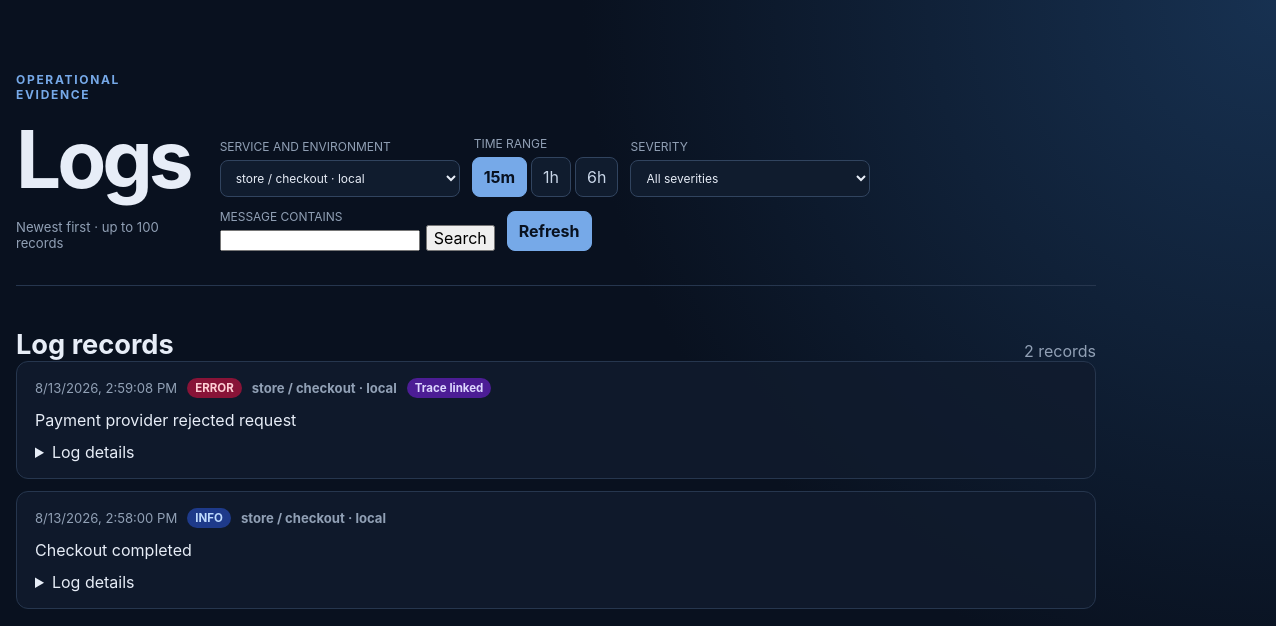
Test: Logs › removes prior-service records while the new exact identity loads
The image size is (1276, 626).
Check: the text "Payment provider rejected request" is shown, box [35,410,296,430]
Select "checkout · staging" in the dropdown labelled "Service and environment": {"x": 340, "y": 178} [220,160,460,197]
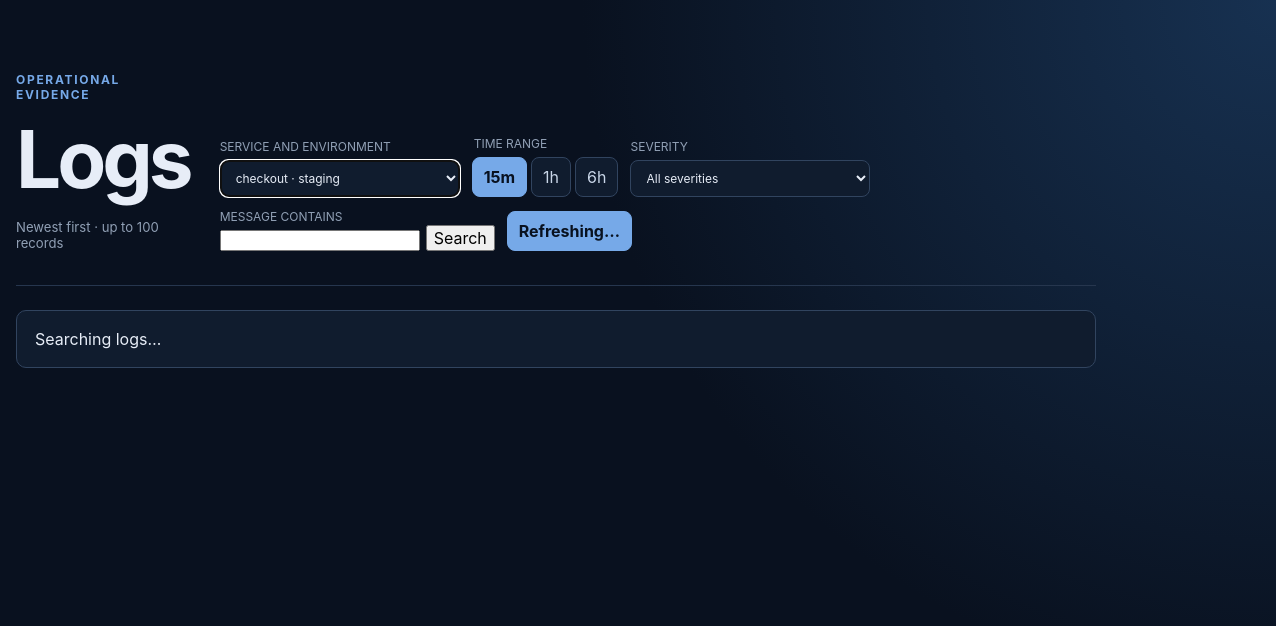
Check: the text "Searching logs…" is shown, box [16,310,1096,368]
Check: the text "Payment provider rejected request" is gone
